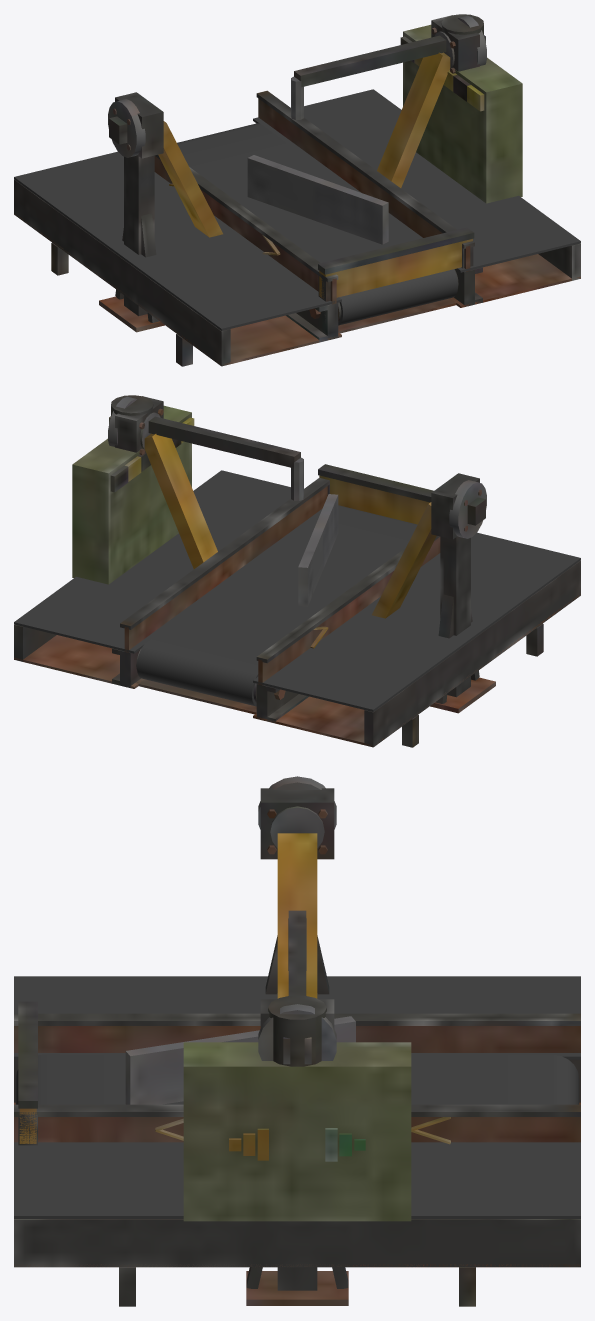
File: feBeltSplitter.glb
The picture shows the model from 3 angles, top to bottom: view 1: azimuth 30°, elevation 25°; view 2: azimuth 150°, elevation 25°; view 3: azimuth 270°, elevation 25°; orthographic projection. The views are drawn at different scales.
Visible parts, largest first — view 1: FeBeltFill_R, FeBeltExtra_Splitter, FeBeltFill_L, FeBeltBed, FeBeltDrive_R, FeRail_L, FeBeltEnd, FeBeltDrive_L, FeRail_R, FeSpin_BeltDrive_R; view 2: FeBeltFill_R, FeBeltBed, FeBeltExtra_Splitter, FeBeltFill_L, FeBeltDrive_R, FeRail_L, FeBeltDrive_L, FeRail_R, FeBeltEnd, FeSpin_BeltDrive_R; view 3: FeBeltFill_L, FeBeltExtra_Splitter, FeBeltFill_R, FeRail_R, FeBeltBed, FeRail_L, FeBeltDrive_R, FeBeltDrive_L, FeBeltEnd, FeSpin_BeltDrive_L, FeSpin_BeltDrive_R.
Part boxes in pixels (left/top/right/bottom): FeBeltFill_R: left=14, top=151, right=341, bottom=366; FeBeltExtra_Splitter: left=247, top=14, right=522, bottom=244; FeBeltFill_L: left=253, top=89, right=580, bottom=307; FeBeltBed: left=177, top=123, right=482, bottom=342; FeBeltDrive_R: left=99, top=92, right=222, bottom=332; FeRail_L: left=256, top=90, right=474, bottom=271; FeBeltEnd: left=318, top=227, right=474, bottom=323; FeBeltDrive_L: left=377, top=15, right=479, bottom=187; FeRail_R: left=154, top=155, right=338, bottom=304; FeSpin_BeltDrive_R: left=108, top=99, right=145, bottom=157; FeBeltFill_R: left=253, top=532, right=580, bottom=747; FeBeltBed: left=112, top=505, right=417, bottom=723; FeBeltExtra_Splitter: left=72, top=395, right=338, bottom=606; FeBeltFill_L: left=14, top=470, right=322, bottom=688; FeBeltDrive_R: left=372, top=473, right=495, bottom=713; FeRail_L: left=120, top=478, right=329, bottom=652; FeBeltDrive_L: left=115, top=396, right=217, bottom=568; FeRail_R: left=256, top=536, right=440, bottom=685; FeBeltEnd: left=318, top=464, right=433, bottom=524; FeSpin_BeltDrive_R: left=449, top=480, right=486, bottom=538; FeBeltFill_L: left=14, top=1142, right=580, bottom=1306; FeBeltExtra_Splitter: left=125, top=910, right=411, bottom=1221; FeBeltFill_R: left=14, top=976, right=580, bottom=1104; FeRail_R: left=14, top=1013, right=580, bottom=1052; FeBeltBed: left=14, top=1054, right=580, bottom=1104; FeRail_L: left=14, top=1104, right=580, bottom=1144; FeBeltDrive_R: left=260, top=788, right=334, bottom=998; FeBeltDrive_L: left=246, top=999, right=348, bottom=1305; FeBeltEnd: left=18, top=1001, right=37, bottom=1145; FeSpin_BeltDrive_L: left=258, top=1004, right=336, bottom=1064; FeSpin_BeltDrive_R: left=258, top=776, right=336, bottom=829.
Size of the model in its own units: 1.03 by 0.57 by 1.
2 materials, 1 textured.
